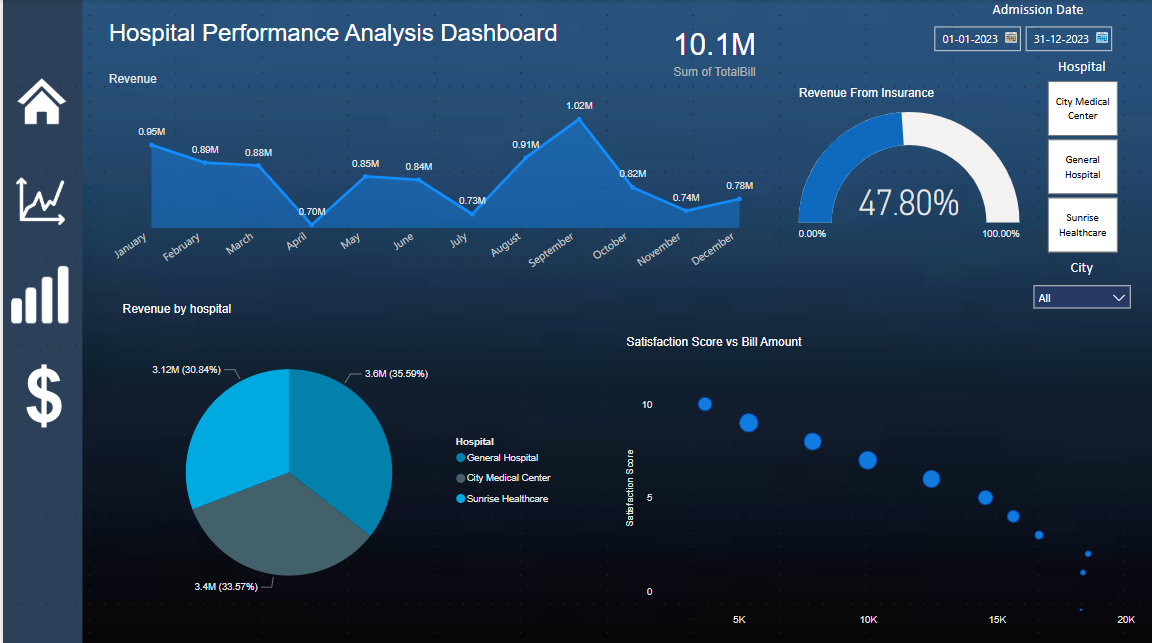

The dashboard page shown, as its layout file describes it:
{"tool":"powerbi","page":{"name":"Finance","canvas":[1280,720],"ordinal":3},"visuals":[{"type":"slicer","title":"Hospital","fields":{"Values":["enhanced_healthcare_data.Hospital"]},"box":[1136,64,128,224],"z":0},{"type":"areaChart","title":"Revenue","fields":{"Category":["enhanced_healthcare_data.AdmissionDate.Variation.Date Hierarchy.Year","enhanced_healthcare_data.AdmissionDate.Variation.Date Hierarchy.Quarter","enhanced_healthcare_data.AdmissionDate.Variation.Date Hierarchy.Month","enhanced_healthcare_data.AdmissionDate.Variation.Date Hierarchy.Day"],"Y":["Sum(enhanced_healthcare_data.TotalBill)"]},"box":[112,80,736,240],"z":1000},{"type":"slicer","title":"City","fields":{"Values":["enhanced_healthcare_data.City"]},"box":[1136,288,128,80],"z":2000},{"type":"slicer","title":"Admission Date","fields":{"Values":["enhanced_healthcare_data.AdmissionDate"]},"box":[1024,0,256,80],"z":3000},{"type":"textbox","box":[112,16,544,64],"z":4000},{"type":"image","box":[0,80,87,64],"z":5000},{"type":"image","box":[10,192,64,64],"z":6000},{"type":"card","title":"Total Patients","fields":{"Values":["Sum(enhanced_healthcare_data.TotalBill)"]},"box":[736,16,112,80],"z":7000},{"type":"image","box":[4,288,74,80],"z":8000},{"type":"pieChart","title":"Revenue by hospital","fields":{"Category":["enhanced_healthcare_data.Hospital"],"Y":["Sum(enhanced_healthcare_data.TotalBill)"]},"box":[128,336,496,368],"z":9000},{"type":"gauge","title":"Revenue From Insurance","fields":{"Y":["enhanced_healthcare_data.Revenue_Contribution_Percentage"]},"box":[880,96,256,192],"z":10000},{"type":"scatterChart","title":"Satisfaction Score vs Bill Amount","fields":{"X":["Avg(enhanced_healthcare_data.TotalBill)"],"Y":["enhanced_healthcare_data.SatisfactionScore"],"Size":["Sum(enhanced_healthcare_data.LengthOfStay)"]},"box":[688,368,576,336],"z":11000},{"type":"image","box":[6,400,80,80],"z":12000}]}

Visuals, with their boxes on the page's 1280x720 design canvas (x1, y1, x2, y2). These are canvas units, not pixel positions in the 1152x643 screenshot, which may show the page scaled, cropped or inside an application window:
"Hospital" slicer: region(1136, 64, 1264, 288)
"Revenue" areaChart: region(112, 80, 848, 320)
"City" slicer: region(1136, 288, 1264, 368)
"Admission Date" slicer: region(1024, 0, 1280, 80)
textbox: region(112, 16, 656, 80)
image: region(0, 80, 87, 144)
image: region(10, 192, 74, 256)
"Total Patients" card: region(736, 16, 848, 96)
image: region(4, 288, 78, 368)
"Revenue by hospital" pieChart: region(128, 336, 624, 704)
"Revenue From Insurance" gauge: region(880, 96, 1136, 288)
"Satisfaction Score vs Bill Amount" scatterChart: region(688, 368, 1264, 704)
image: region(6, 400, 86, 480)
